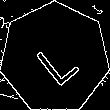L_NW: (28, 28, 82, 87)
